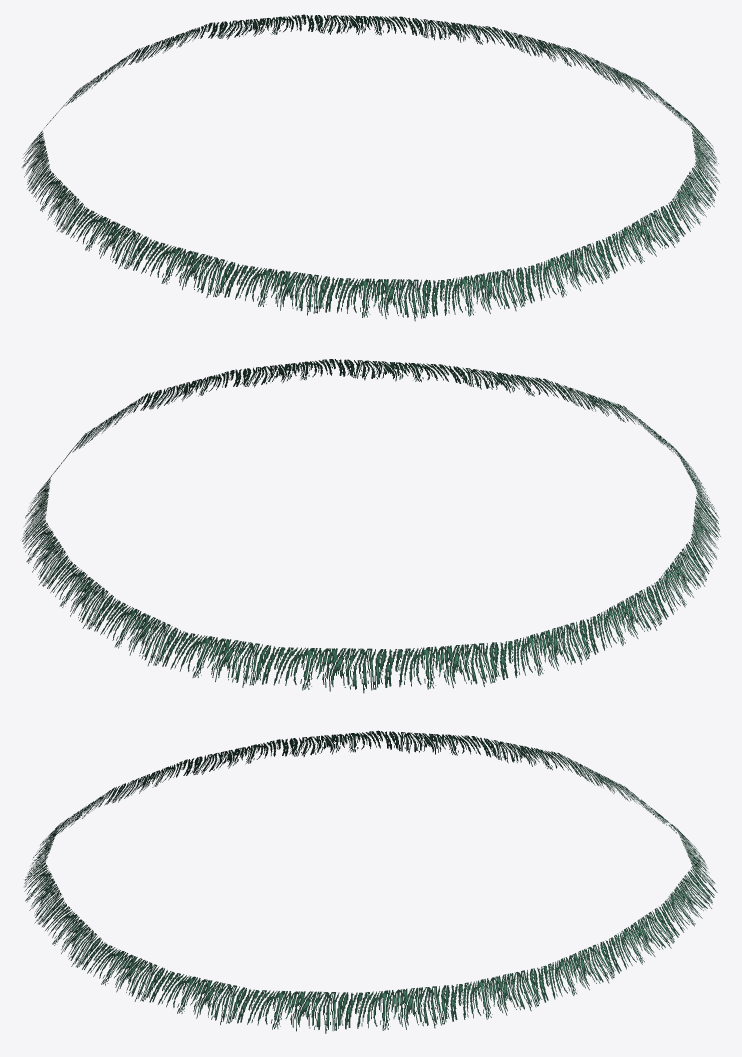
File: grassonly.fbx
3 renders of one model, top to bottom at view 1: azimuth 30°, elevation 25°; view 2: azimuth 150°, elevation 25°; view 3: azimuth 270°, elevation 25°, orthographic. The views are drawn at different scales.
Parts seen in each view (by area): view 1: platform_deformed_grass1grassonly; view 2: platform_deformed_grass1grassonly; view 3: platform_deformed_grass1grassonly.
Part boxes in pixels (<box>): platform_deformed_grass1grassonly: <box>21,14,719,321</box>; platform_deformed_grass1grassonly: <box>21,359,720,693</box>; platform_deformed_grass1grassonly: <box>24,730,717,1033</box>.
Size of the model in its own units: 33.26 by 2.11 by 35.08.
